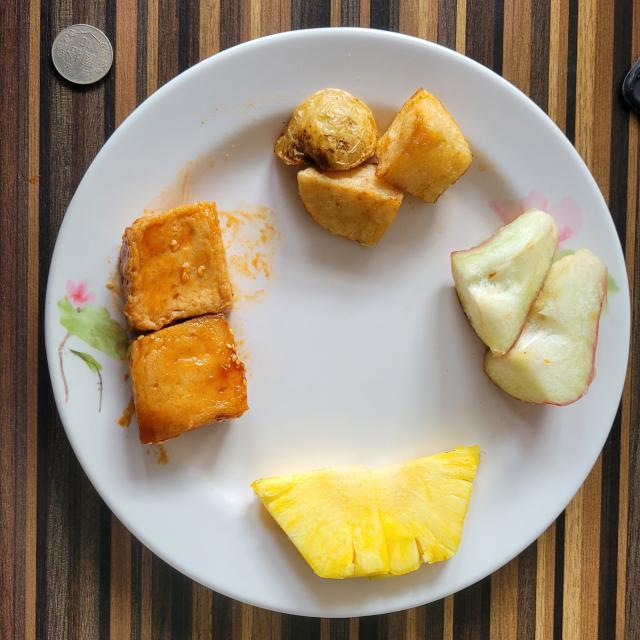coin: (51, 24, 112, 84)
creamy tofu: (120, 201, 248, 444)
fried potato: (275, 89, 472, 245)
pineapple: (251, 445, 480, 579)
